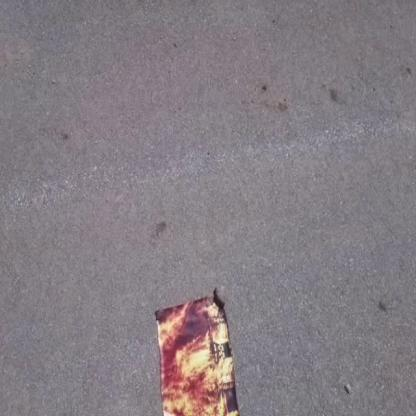fire-poster: (153, 286, 245, 415)
